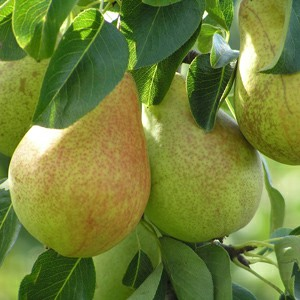pear: (8, 54, 150, 256), (137, 65, 263, 240), (233, 1, 300, 167), (1, 26, 65, 159)
